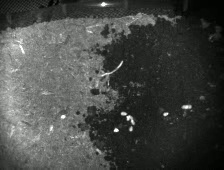corn: (180, 102, 193, 112), (119, 110, 130, 117), (48, 123, 55, 134), (59, 113, 67, 121), (112, 126, 120, 133), (128, 124, 134, 133), (130, 119, 137, 126), (128, 114, 135, 121), (162, 111, 170, 117), (125, 114, 130, 121)
